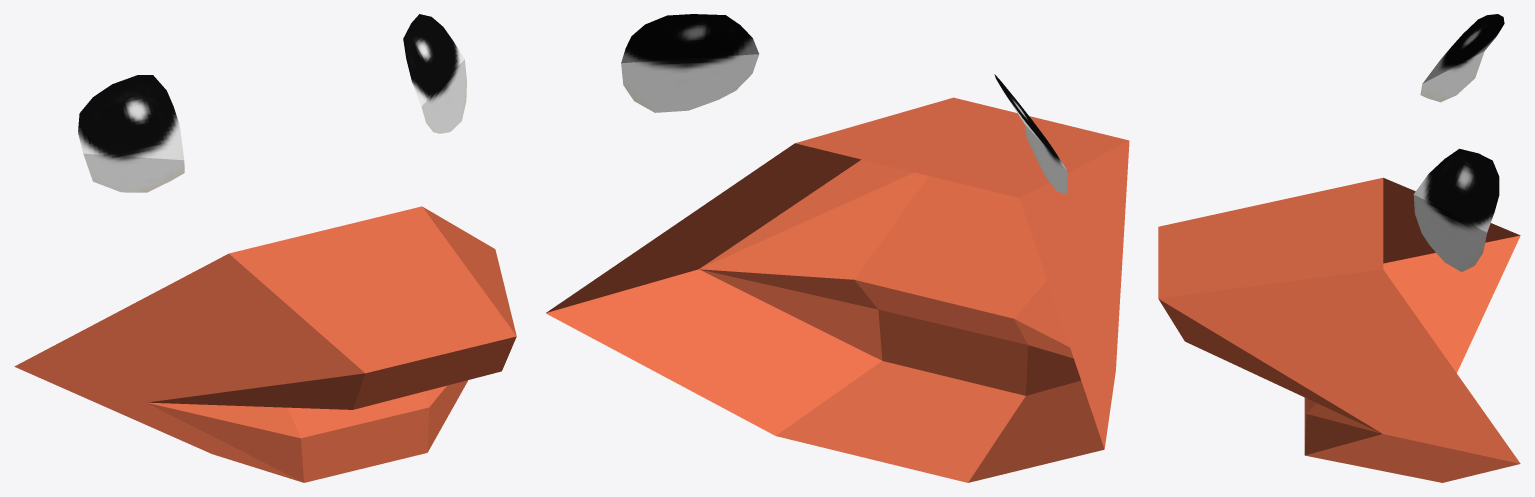
File: Ducky_face.fbx
3 views of the same model, side by side, from view 1: azimuth 30°, elevation 25°; view 2: azimuth 150°, elevation 25°; view 3: azimuth 270°, elevation 25° (orthographic). The views are drawn at different scales.
Parts seen in each view (by area): view 1: Ducky_face; view 2: Ducky_face; view 3: Ducky_face.
Boxes of the visible parts, x1,y1,x2,y2 form: Ducky_face: [14, 14, 516, 482]; Ducky_face: [546, 14, 1129, 482]; Ducky_face: [1158, 14, 1520, 482].
Size of the model in its own units: 2.43 by 1.82 by 1.63.
